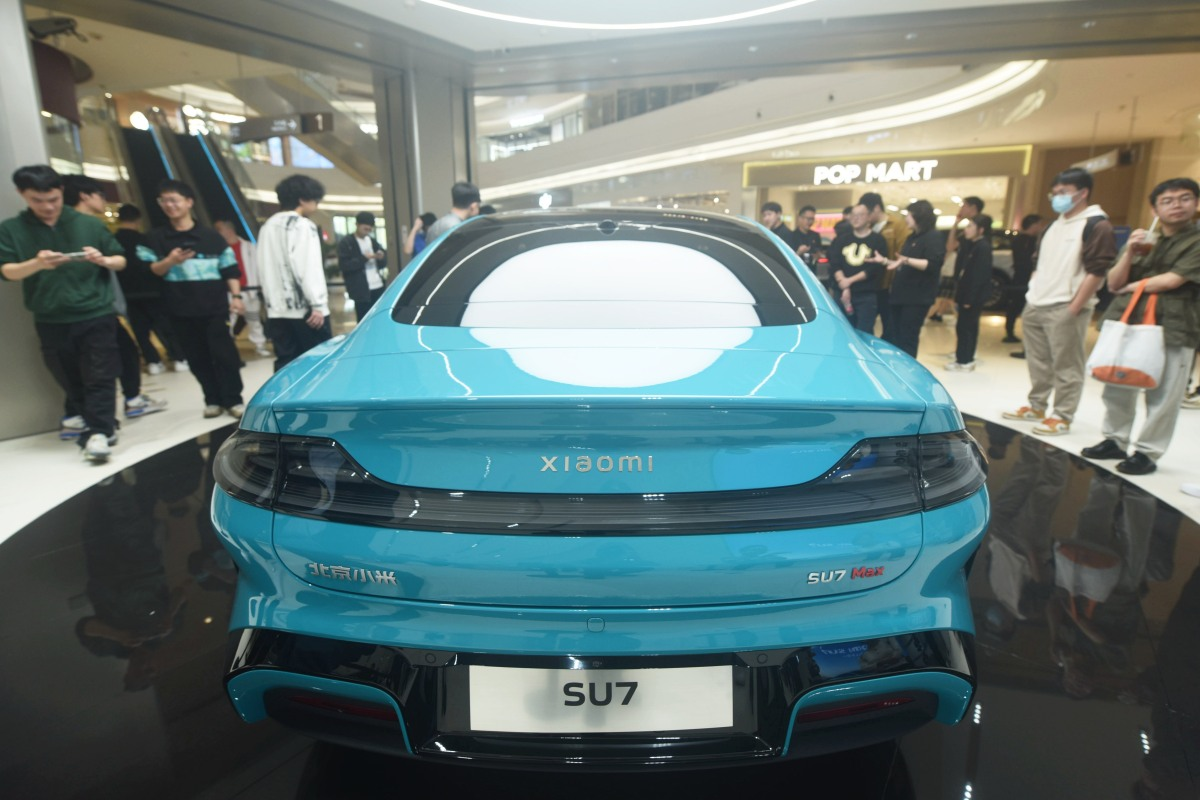su7: (227, 188, 987, 782)
